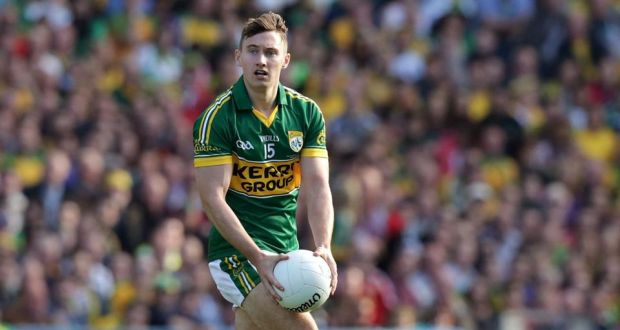ball: (271, 243, 333, 313)
player: (195, 16, 347, 323)
